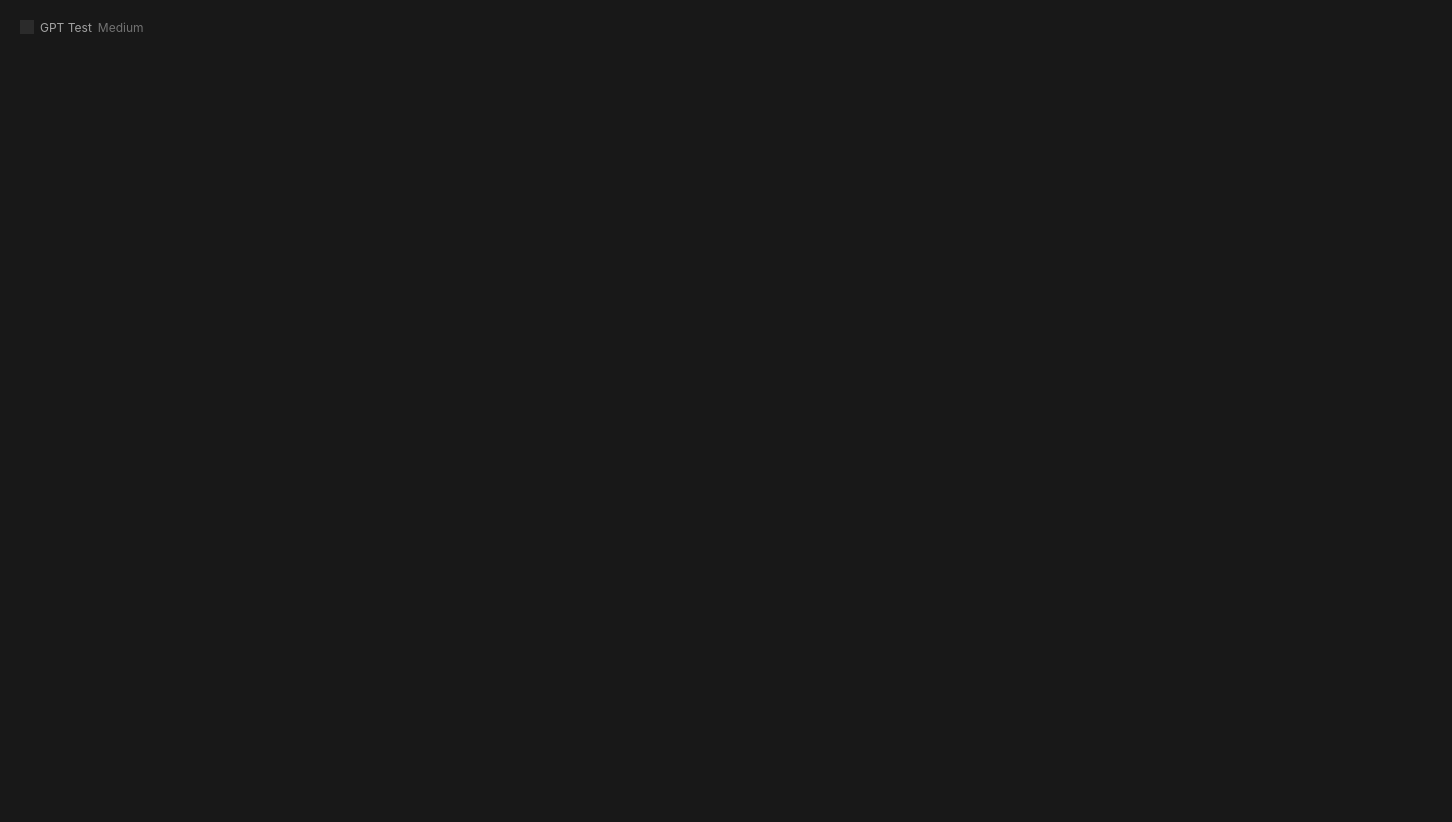
ModelSelector interaction › closes with Escape or a click outside and restores focus
Click the button "GPT Test Medium" at (92,27), box [12,14,172,40]
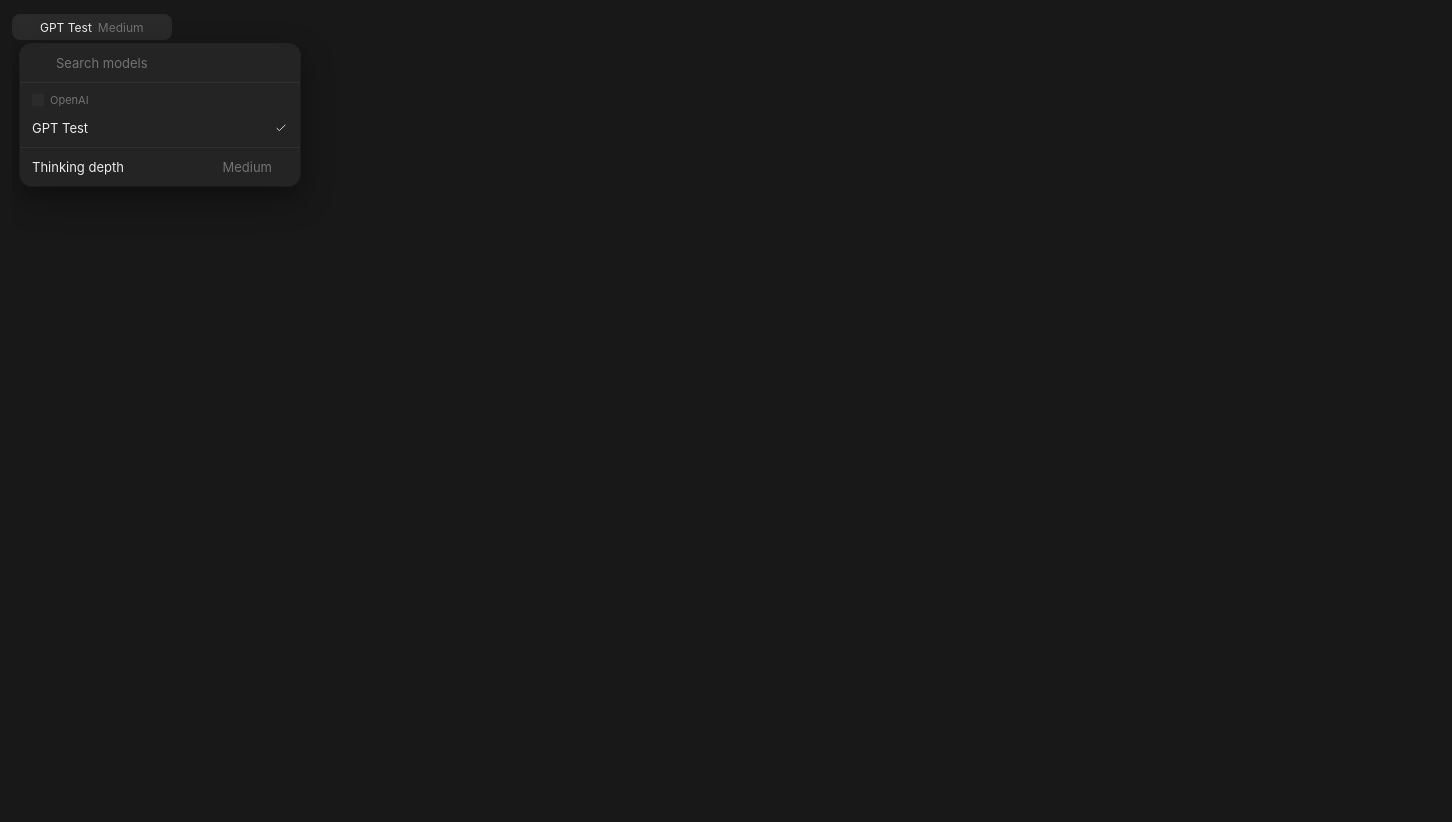
Press ArrowDown in the field with placeholder "Search models", box [54,54,260,72]
Press Escape in the menu item "GPT Test", box [24,113,296,143]
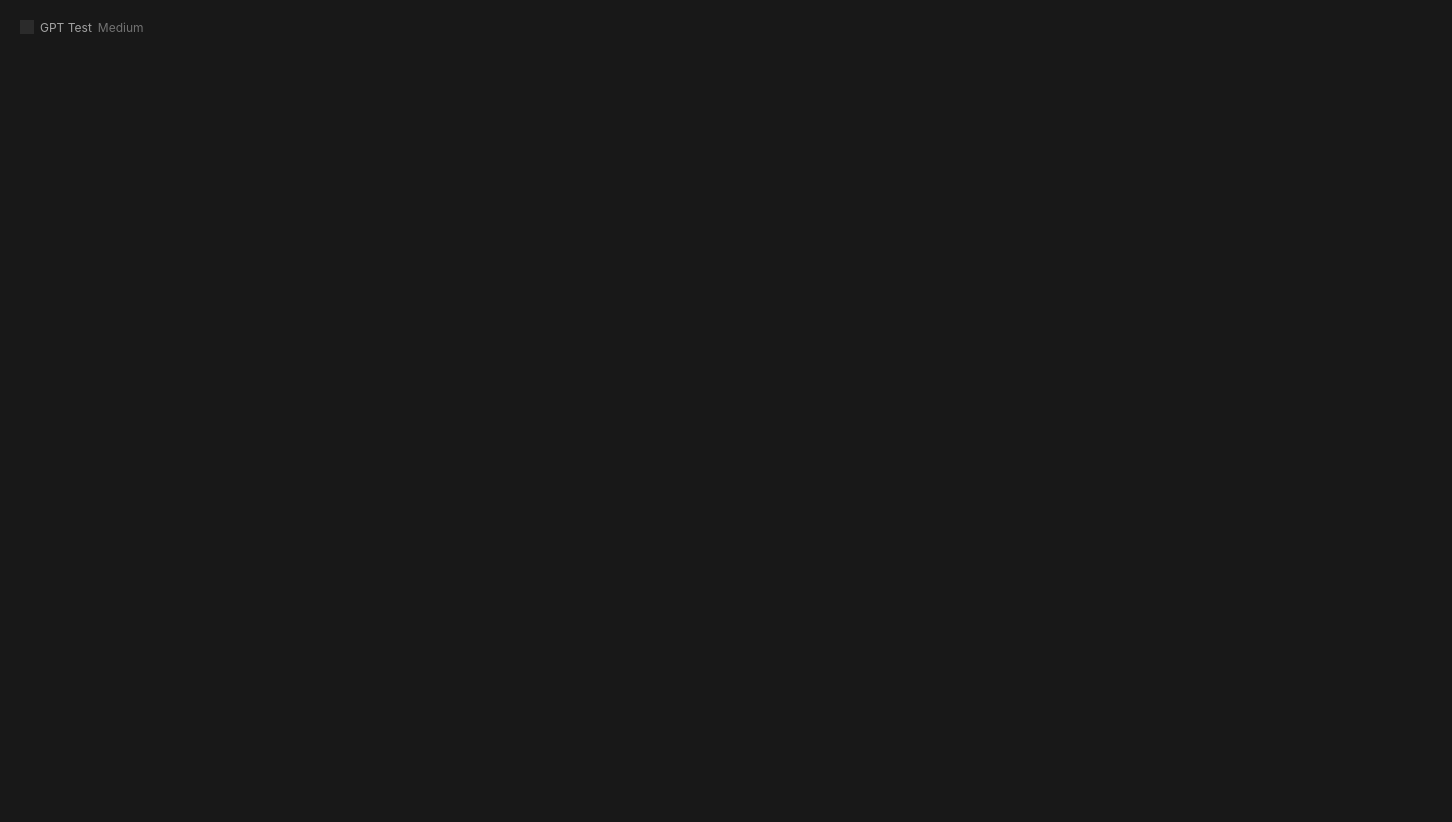
Expected: the menu is gone
Click the button "GPT Test Medium" at (92,27), box [12,14,172,40]
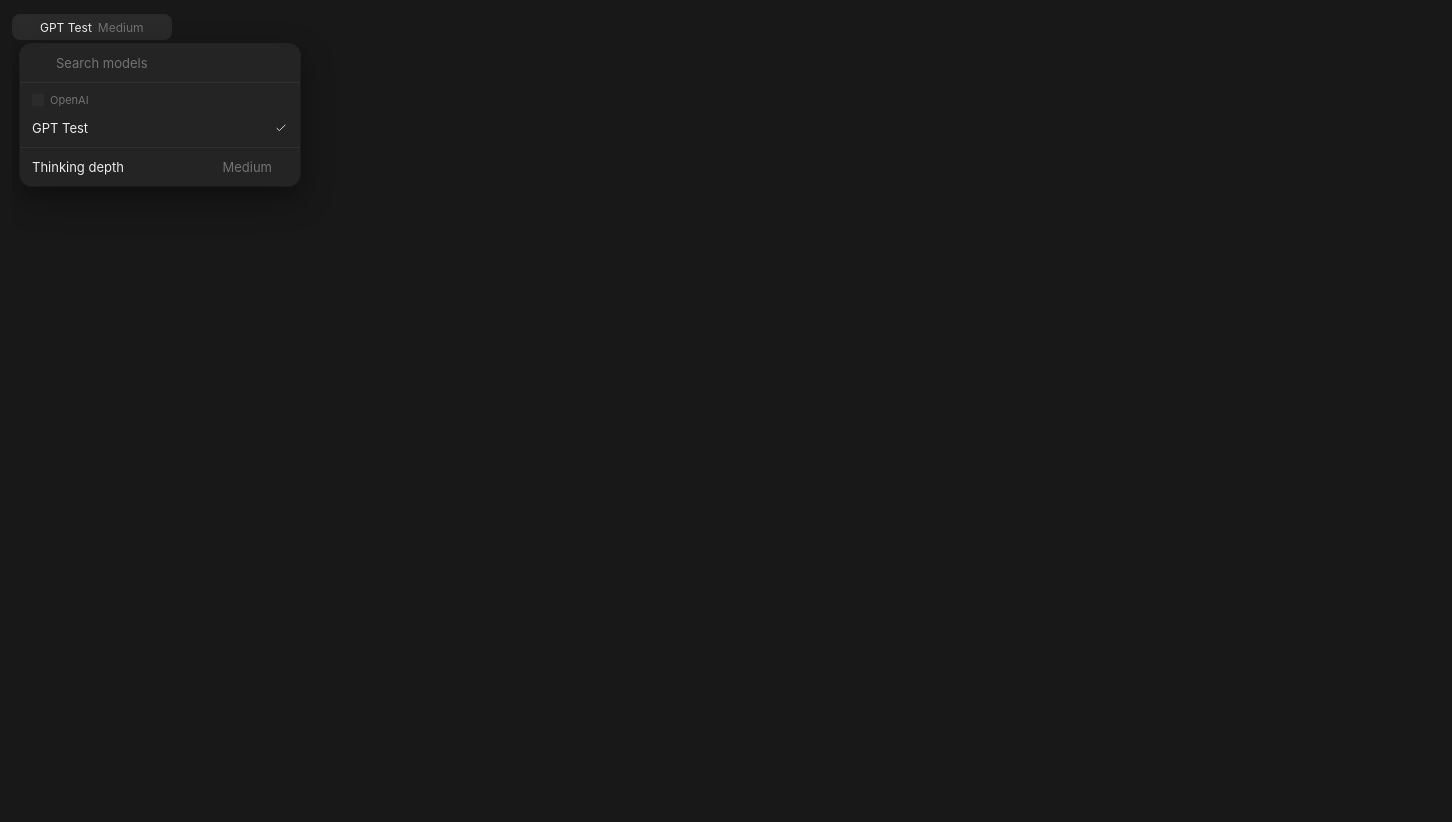
Press the mouse on the element showing "GPT Test Medium OpenAI GPT Test Thinking depth Medium" at (732,417), box [12,12,1451,821]
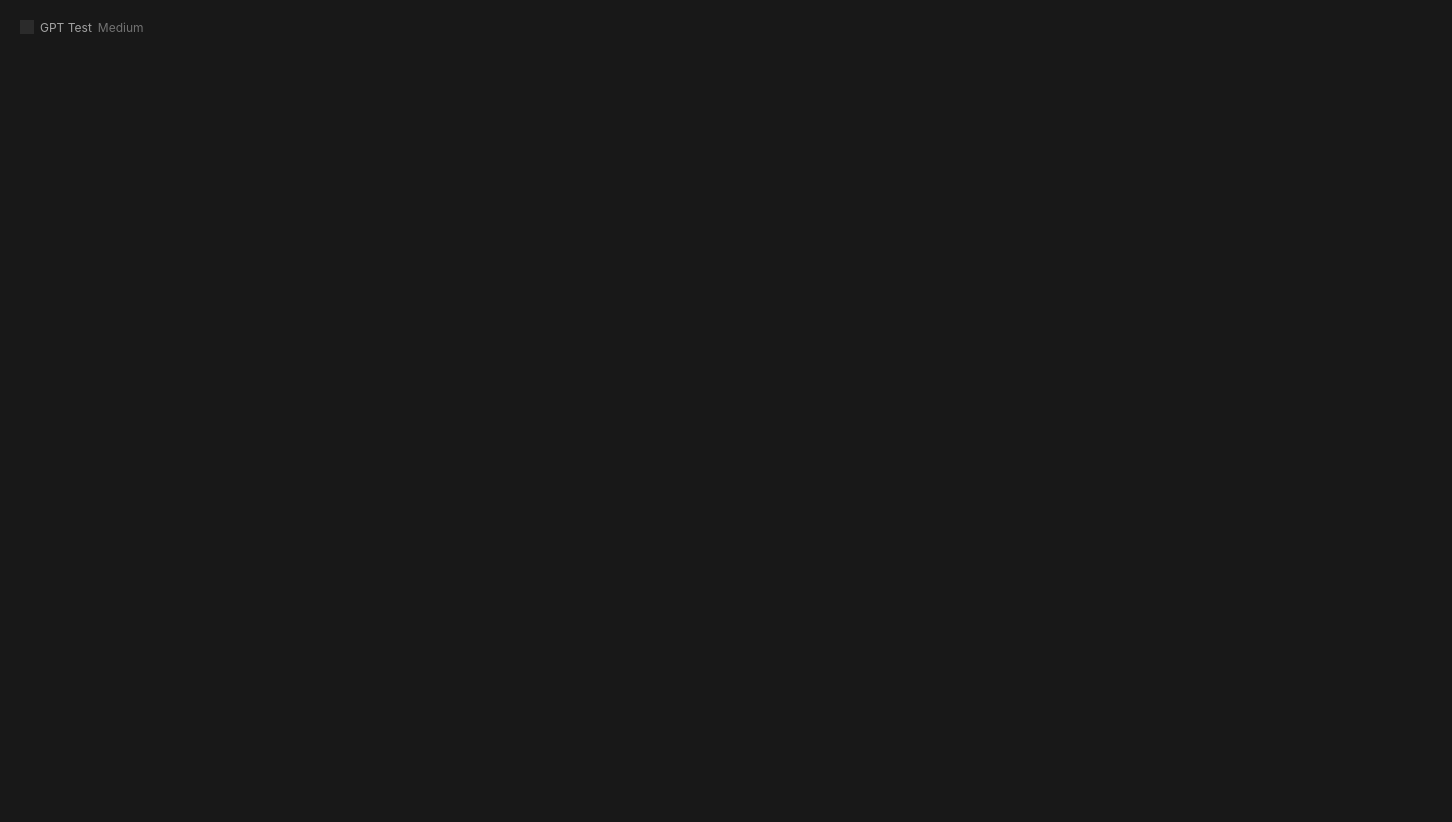
Expected: the button "GPT Test Medium" is collapsed, [12,14,172,40]
